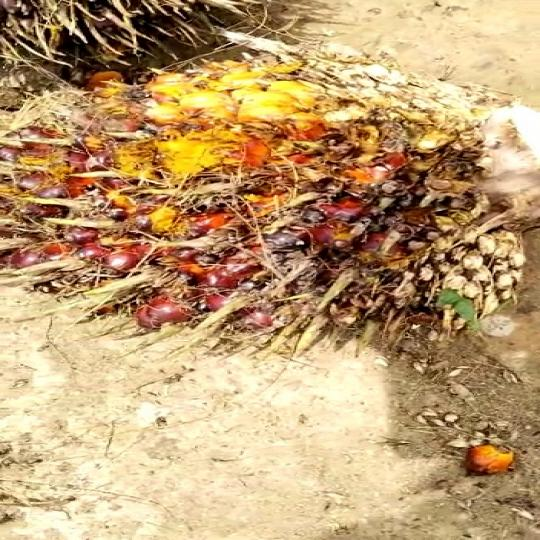masak: (0, 48, 540, 373)
